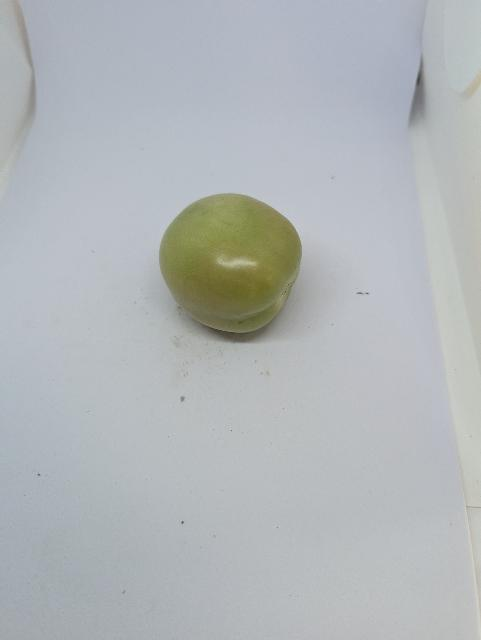green: (156, 191, 305, 335)
